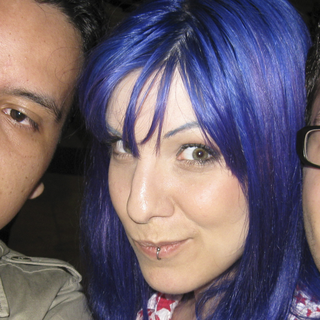eye: (173, 141, 217, 167), (2, 104, 39, 131)
